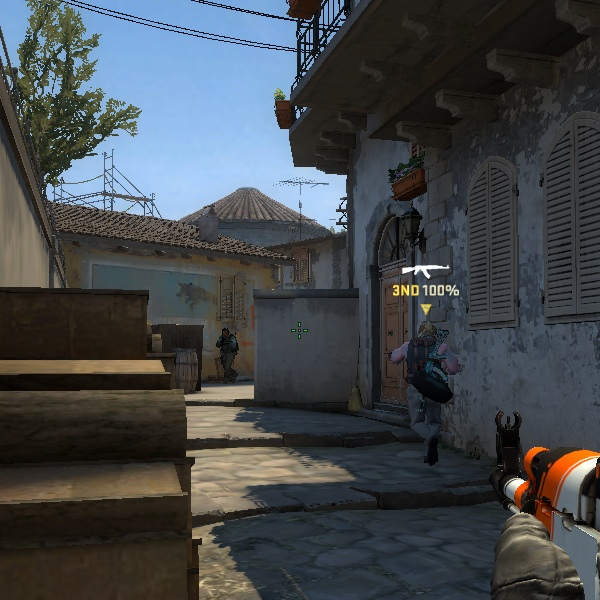ct_body: (211, 324, 243, 381)
